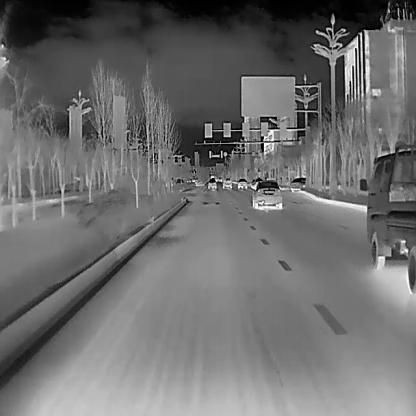car: (250, 180, 282, 208), (288, 176, 306, 192), (235, 177, 248, 189), (221, 174, 232, 188), (206, 177, 217, 189)
truck: (359, 142, 415, 295)
